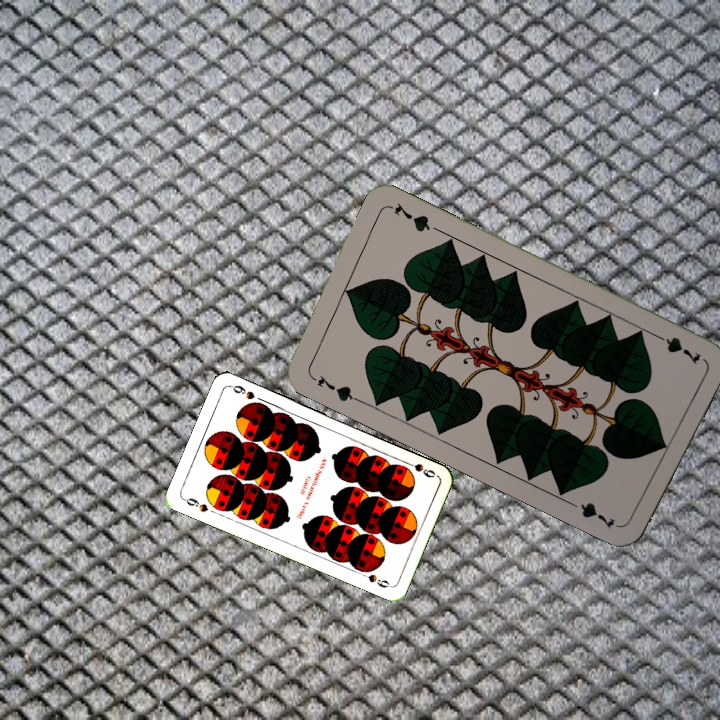G7: (649, 329, 704, 367), (306, 370, 361, 405)
S9: (400, 457, 438, 480), (179, 494, 211, 515)
